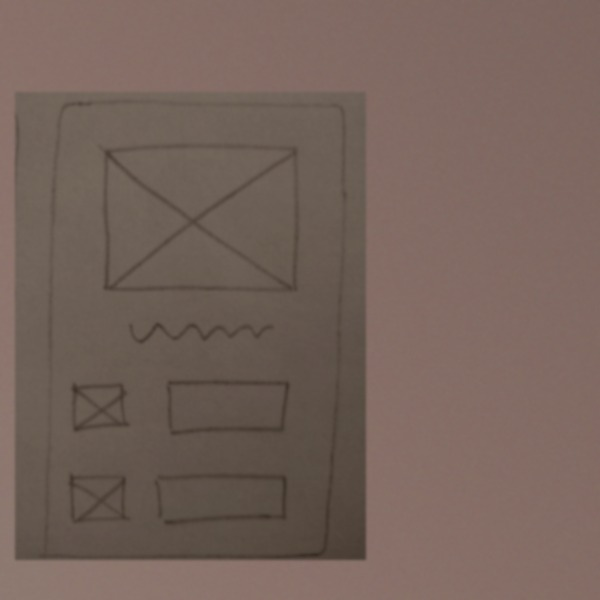image: (94, 136, 302, 301), (66, 379, 134, 439), (63, 471, 131, 530)
text: (121, 315, 274, 350)
text_input: (159, 376, 294, 444), (150, 467, 292, 528)
